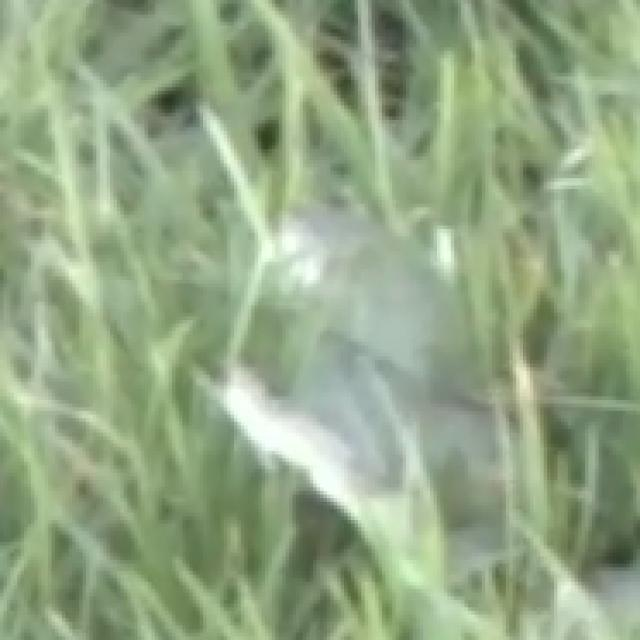organic waste: (119, 129, 578, 608)
